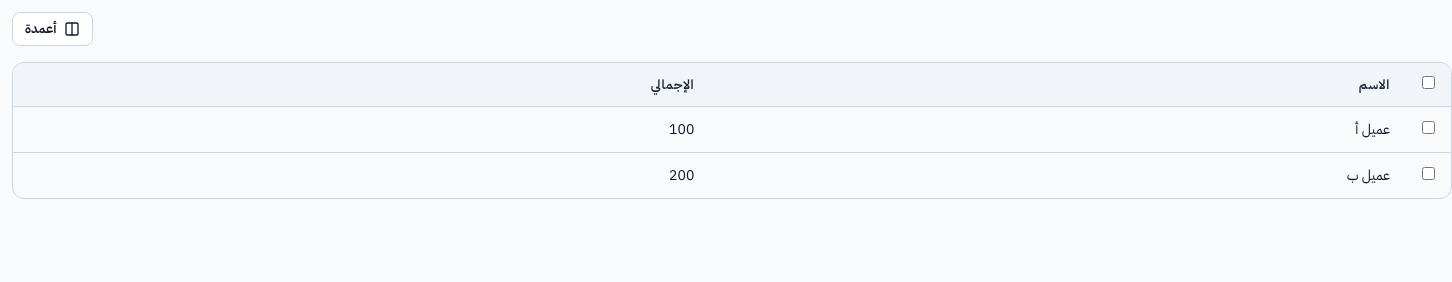
Scenario: DataTable features › shows the bulk action bar and clears selection
Click the checkbox next to "عميل أ". click: (1428,128)
box: [1422,121,1435,134]
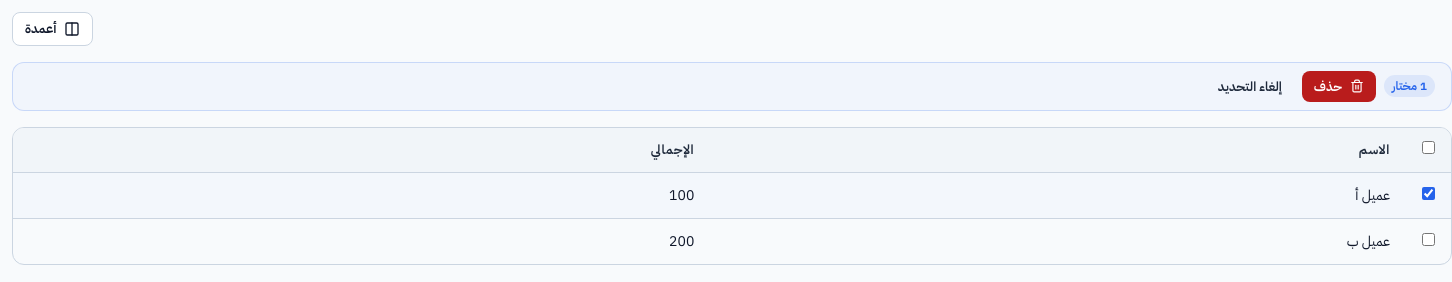
Check: the text "1 مختار" is shown, box [1384,75,1435,97]
Click the button "إلغاء التحديد". click: (1250,86)
box: [1206,70,1294,102]
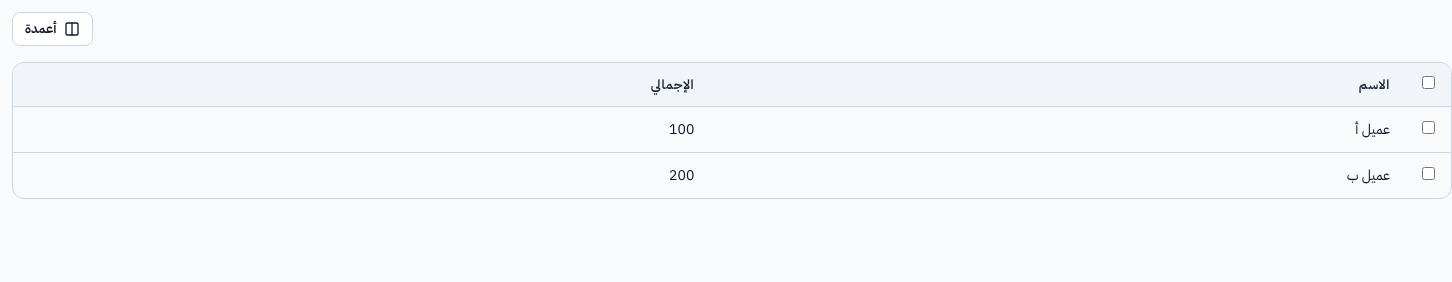
Check: the text "1 مختار" is gone
